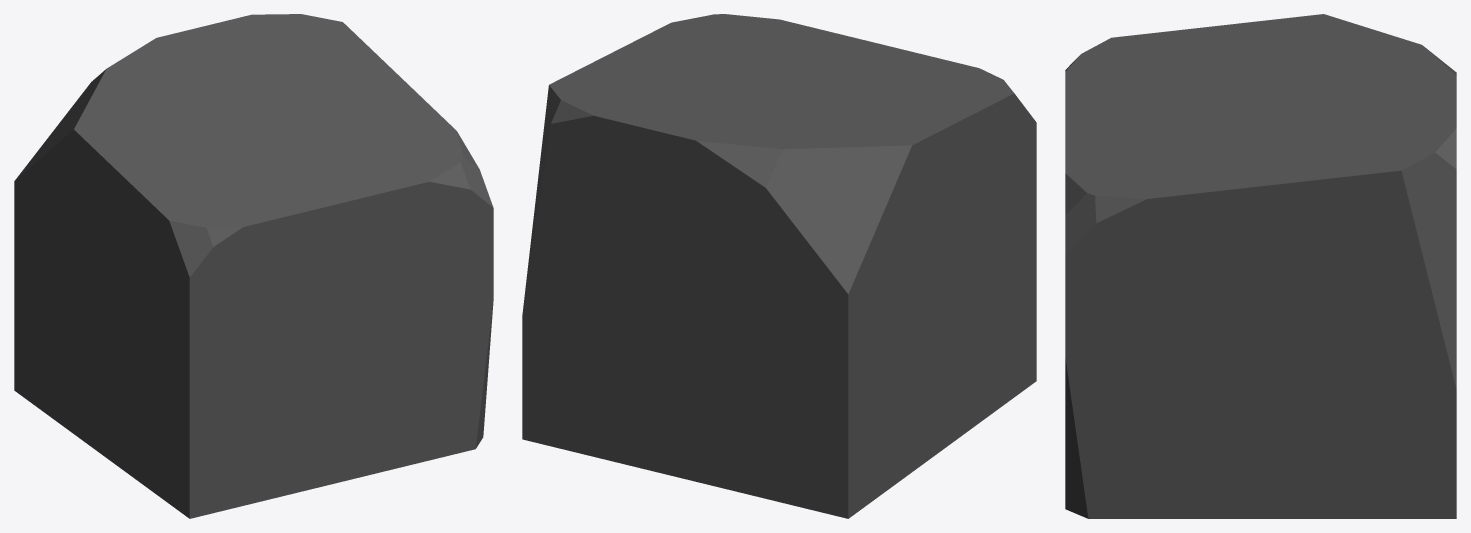
File: Ruins_15.fbx
The picture shows the model from 3 angles, left to right: view 1: azimuth 30°, elevation 25°; view 2: azimuth 150°, elevation 25°; view 3: azimuth 270°, elevation 25°; orthographic projection. The views are drawn at different scales.
Visible parts, largest first — view 1: Ruins_15; view 2: Ruins_15; view 3: Ruins_15.
Part boxes in pixels (x1,y1,x2,y2): Ruins_15: (14,14,493,518); Ruins_15: (522,14,1036,518); Ruins_15: (1065,14,1456,518).
Bounding box in the file's own units: 89.7 × 89.7 × 89.7.
